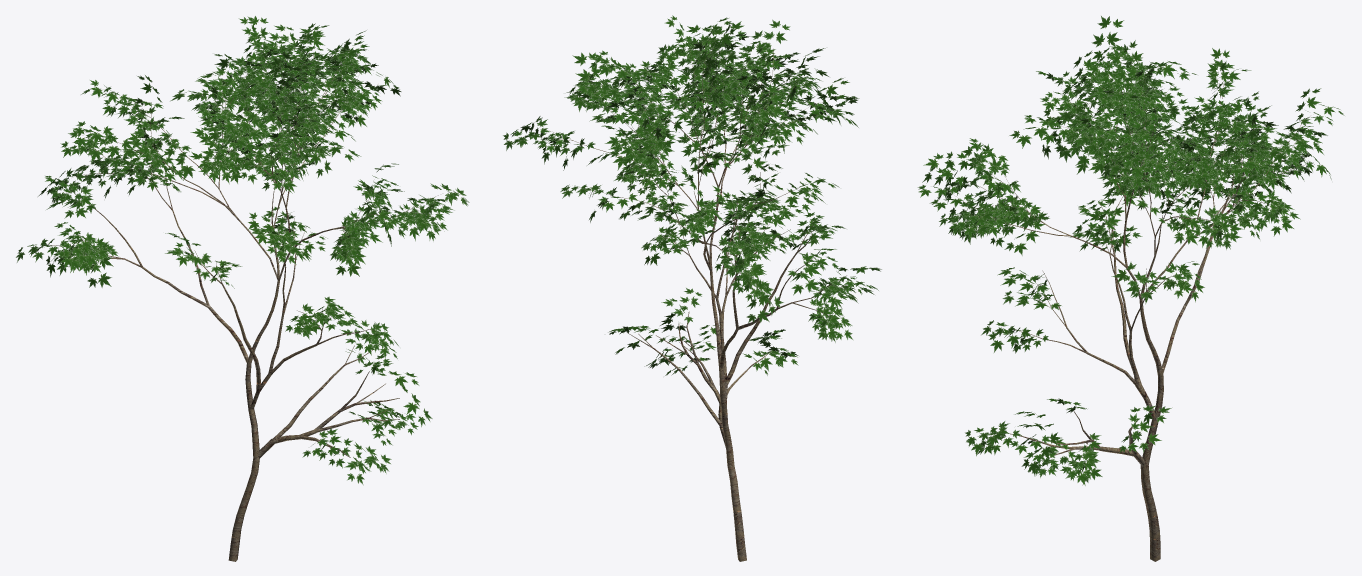
The model's file is irohamomiji_nocolor.fbx.
The picture shows the model from 3 angles, left to right: view 1: azimuth 30°, elevation 25°; view 2: azimuth 150°, elevation 25°; view 3: azimuth 270°, elevation 25°; orthographic projection.
Parts seen in each view (by area): view 1: Tree.001; view 2: Tree.001; view 3: Tree.001.
Part boxes in pixels (<box>): Tree.001: <box>48,46,438,561</box>; Tree.001: <box>544,47,846,561</box>; Tree.001: <box>958,56,1308,561</box>.
Size of the model in its own units: 258 by 355 by 263.
Materials: 2 (2 with a texture image).
